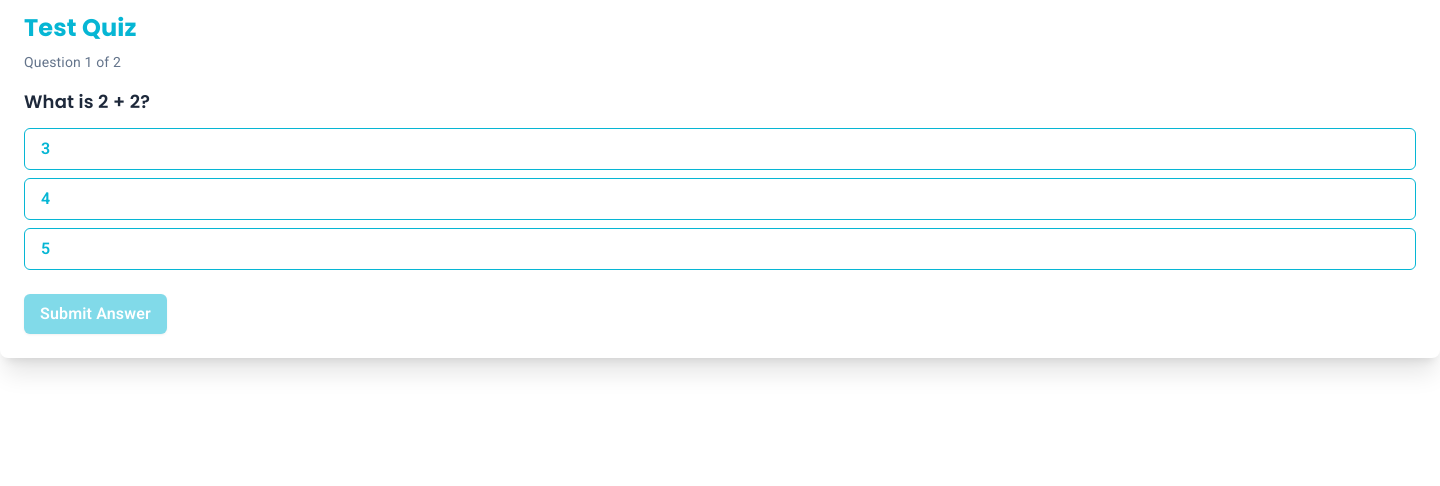
Test: QuizView › shows results after the last question
Note: Answer first question
Click the button "4" at point(46, 198), box left=24, top=178, right=1416, bottom=220
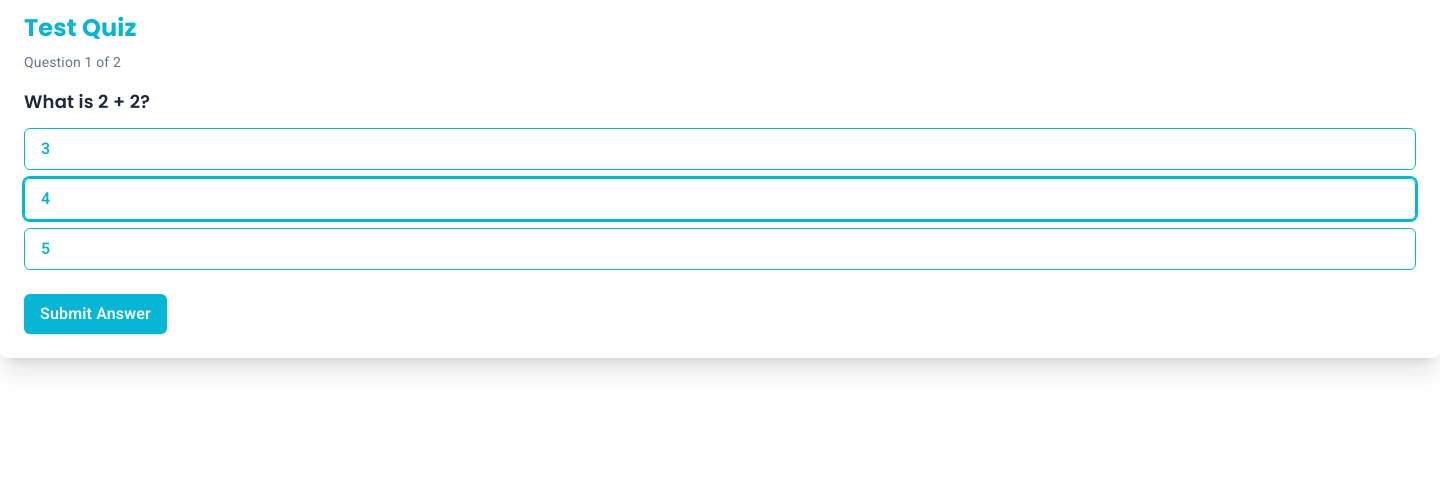
Click the button "Submit Answer" at point(95, 314), box left=24, top=294, right=167, bottom=334
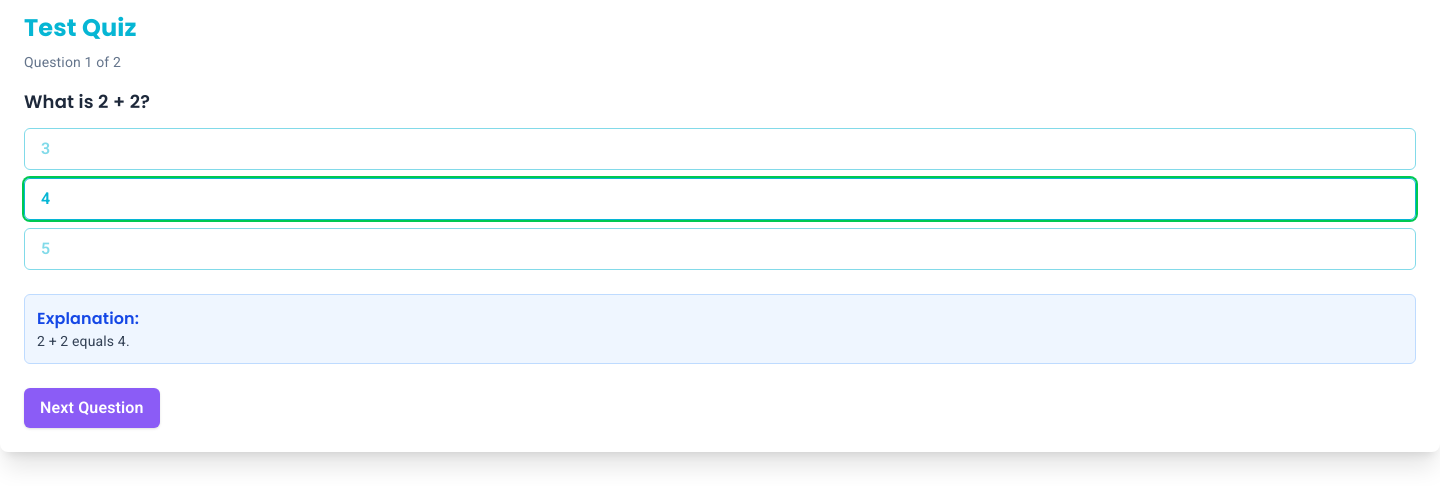
Click the button "Next Question" at point(92, 408), box left=24, top=388, right=160, bottom=428
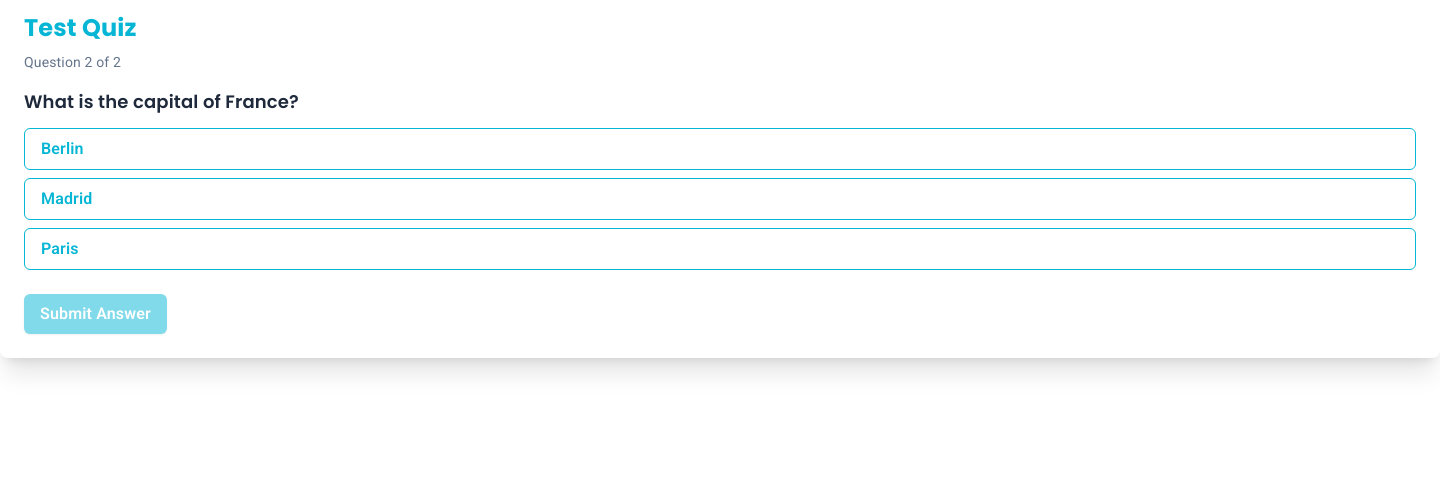
Note: Answer second question
Click the button "Paris" at point(60, 248), box left=24, top=228, right=1416, bottom=270
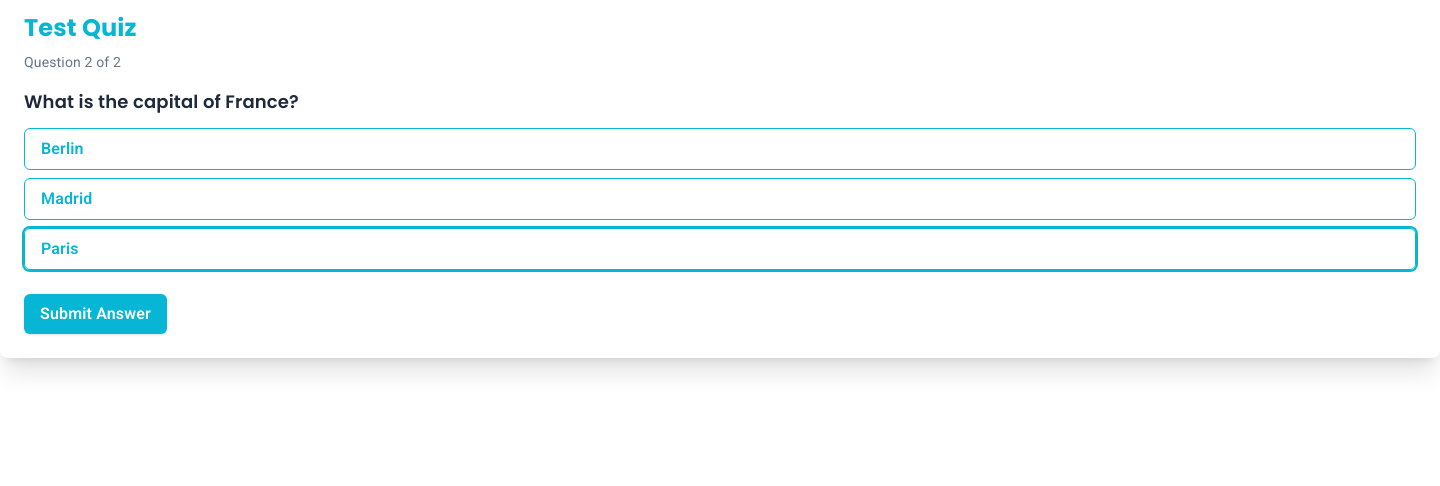
Click the button "Submit Answer" at point(95, 314), box left=24, top=294, right=167, bottom=334
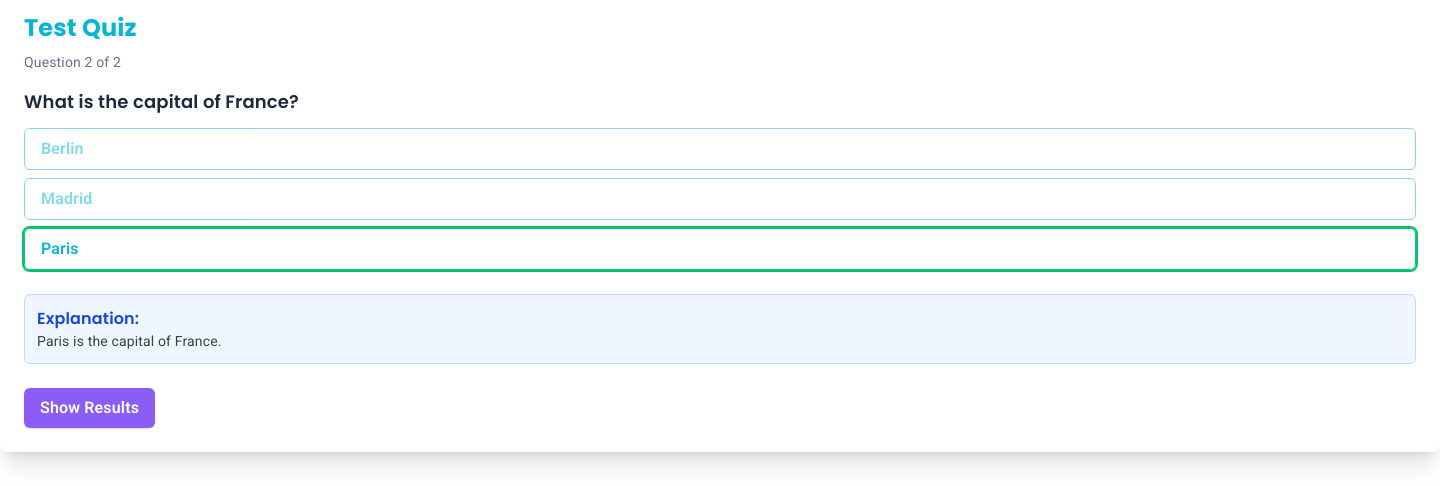
Click the button "Show Results" at point(90, 408), box left=24, top=388, right=155, bottom=428
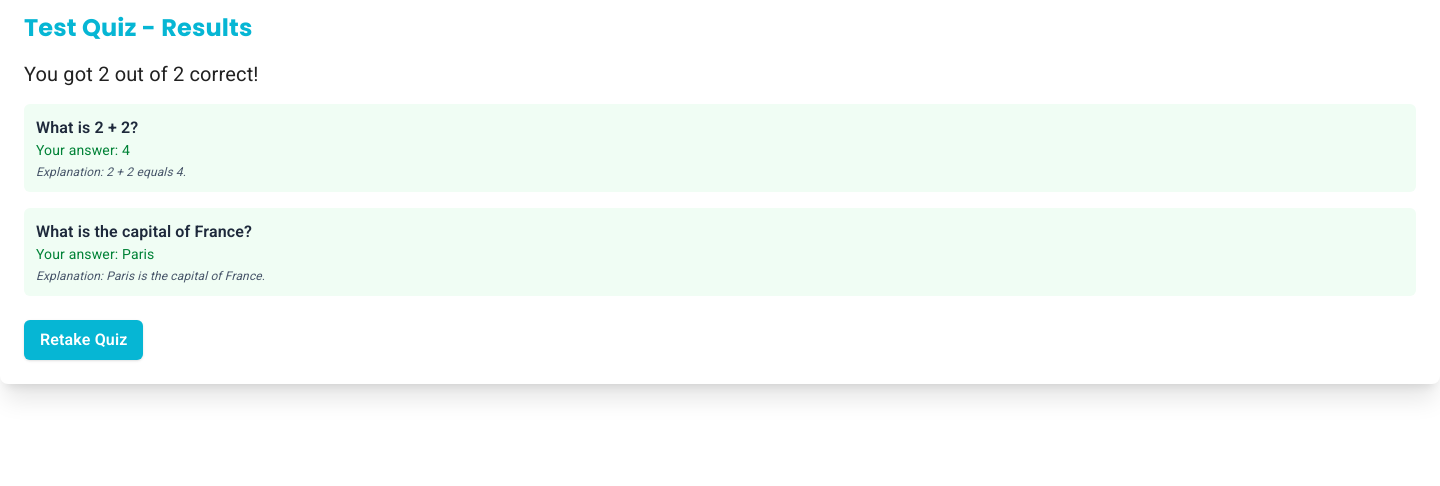
Check: the button "Retake Quiz" is shown, box left=24, top=320, right=144, bottom=360
